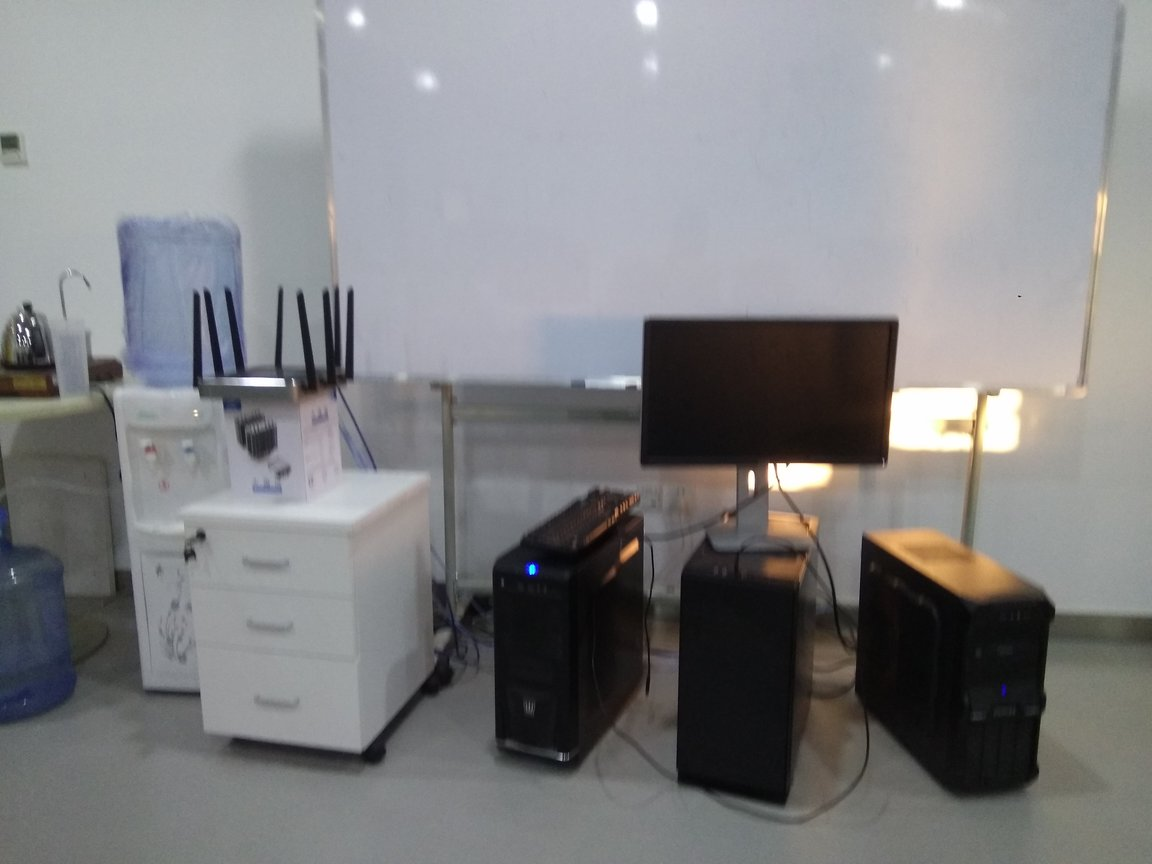computer: (862, 523, 1045, 788), (687, 496, 827, 816), (504, 504, 654, 769)
drawer chest: (191, 462, 445, 763)
monitor: (634, 313, 906, 554)
scuttlebutt: (113, 210, 265, 380), (1, 543, 80, 724)
water dispenser: (109, 377, 259, 710)
